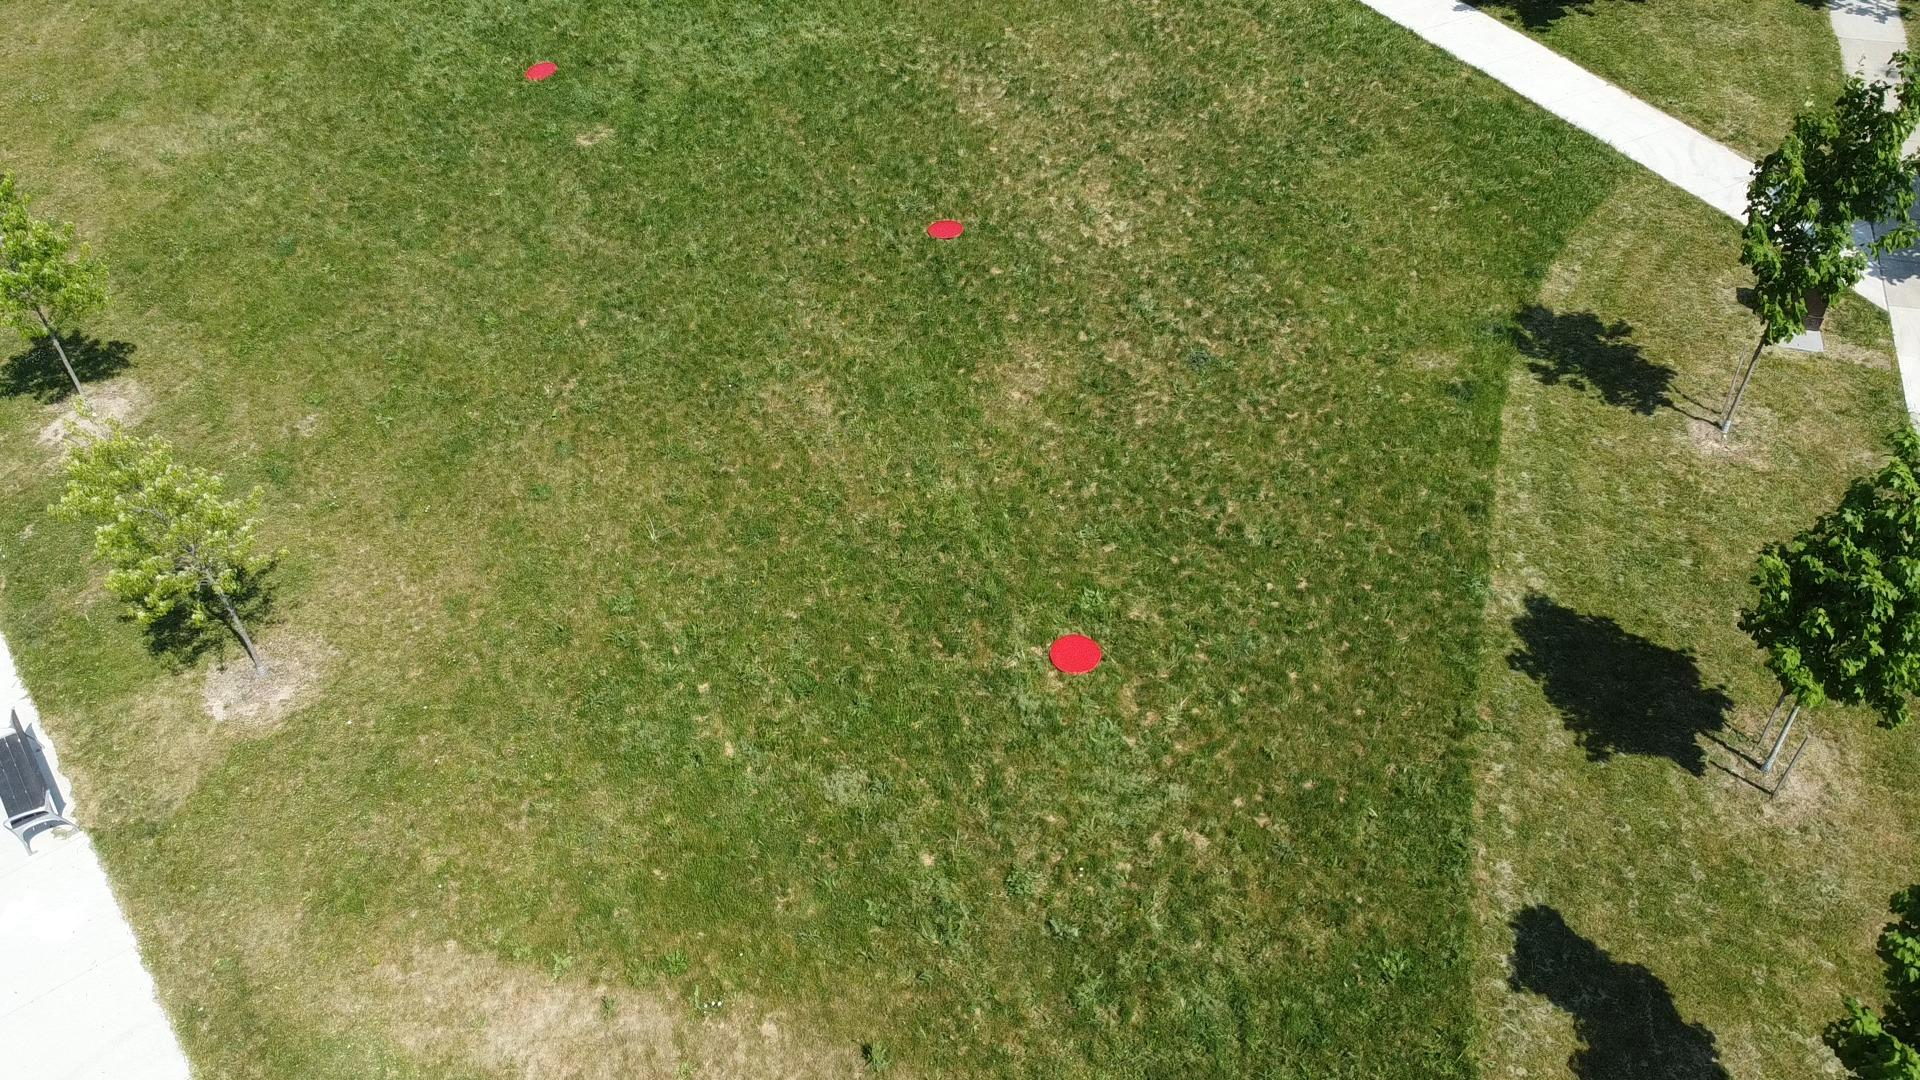Red: (1048, 634, 1104, 675), (927, 219, 965, 240), (526, 61, 559, 82)
